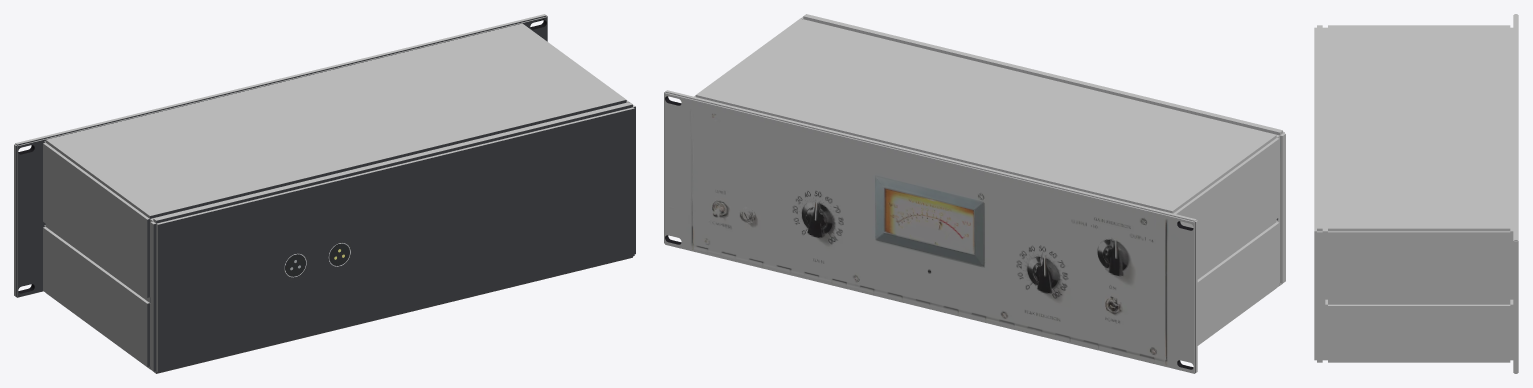
3 views of the same model, side by side, from view 1: azimuth 30°, elevation 25°; view 2: azimuth 150°, elevation 25°; view 3: azimuth 270°, elevation 25° (orthographic). The views are drawn at different scales.
Visible parts, largest first — view 1: ua-la-2a-body; view 2: ua-la-2a-body; view 3: ua-la-2a-body.
Boxes of the visible parts, box(x1,y1,x2,y2) form: ua-la-2a-body: box(14, 14, 635, 373); ua-la-2a-body: box(664, 14, 1285, 373); ua-la-2a-body: box(1314, 14, 1518, 373).
Size of the model in its own units: 0.483 by 0.133 by 0.184.
Materials: 1 (1 with a texture image).
